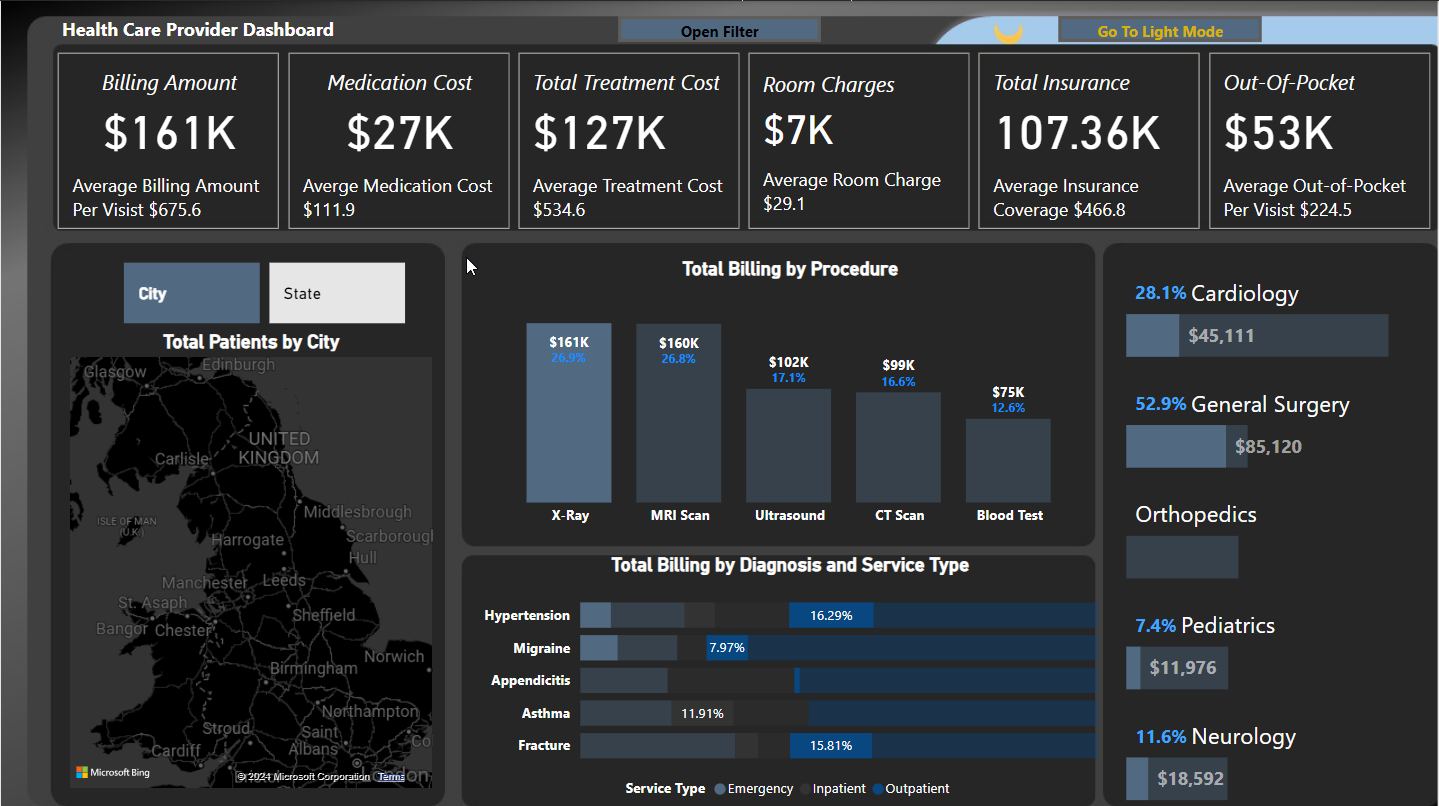

What the dashboard file says about the page in this screenshot:
{"tool":"powerbi","page":{"name":"dark mode","canvas":[1280,720],"ordinal":0},"visuals":[{"type":"cardVisual","fields":{"Data":["_Measures.Total Billing","_Measures.Total medication Cost","_Measures.Total Treatment Cost","_Measures.Total Room Charges","_Measures.Total Insurance Coverage","_Measures.Out-Of-Pocket"]},"box":[45.7,41.6,1234.6,167.7],"z":0},{"type":"filledMap","fields":{"Category":["cities.State"]},"box":[56.3,292.6,332.4,413.5],"z":1000},{"type":"advancedSlicerVisual","fields":{"Values":["Location Pramter.Location Pramter"]},"box":[104.4,228,261,64.6],"z":2000},{"type":"columnChart","fields":{"Category":["procedures.Procedure"],"Y":["_Measures.Total Billing"]},"box":[424.5,228,557.7,248.6],"z":3000},{"type":"hundredPercentStackedBarChart","fields":{"Y":["_Measures.Total Billing"],"Category":["diagnoses.Diagnosis"],"Series":["visits.Service Type"]},"box":[424.5,491.8,557.7,228],"z":4000},{"type":"clusteredBarChart","fields":{"Category":["departments.Department"],"Y":["_Measures.Blank Measures","_Measures.Total Billing"]},"box":[997.3,228,273.4,491.8],"z":5000},{"type":"actionButton","box":[941.3,13.7,181.1,23.3],"z":6000},{"type":"textbox","box":[45.8,8.4,293.2,33.8],"z":7000},{"type":"actionButton","box":[549.9,13.4,180.3,23.4],"z":7001}]}

Visuals, with their boxes in screenshot pixels (x1, y1, x2, y2), scaled from the page's 1280x720 canvas onto the 1439x806 screenshot:
cardVisual - _Measures.Total Billing x _Measures.Total medication Cost: [51,47,1438,234]
filledMap - cities.State: [63,328,437,790]
advancedSlicerVisual - Location Pramter.Location Pramter: [117,255,411,328]
columnChart - procedures.Procedure x _Measures.Total Billing: [477,255,1104,534]
hundredPercentStackedBarChart - _Measures.Total Billing x diagnoses.Diagnosis: [477,551,1104,805]
clusteredBarChart - departments.Department x _Measures.Blank Measures: [1121,255,1429,805]
actionButton: [1058,15,1262,41]
textbox: [51,9,381,47]
actionButton: [618,15,821,41]
